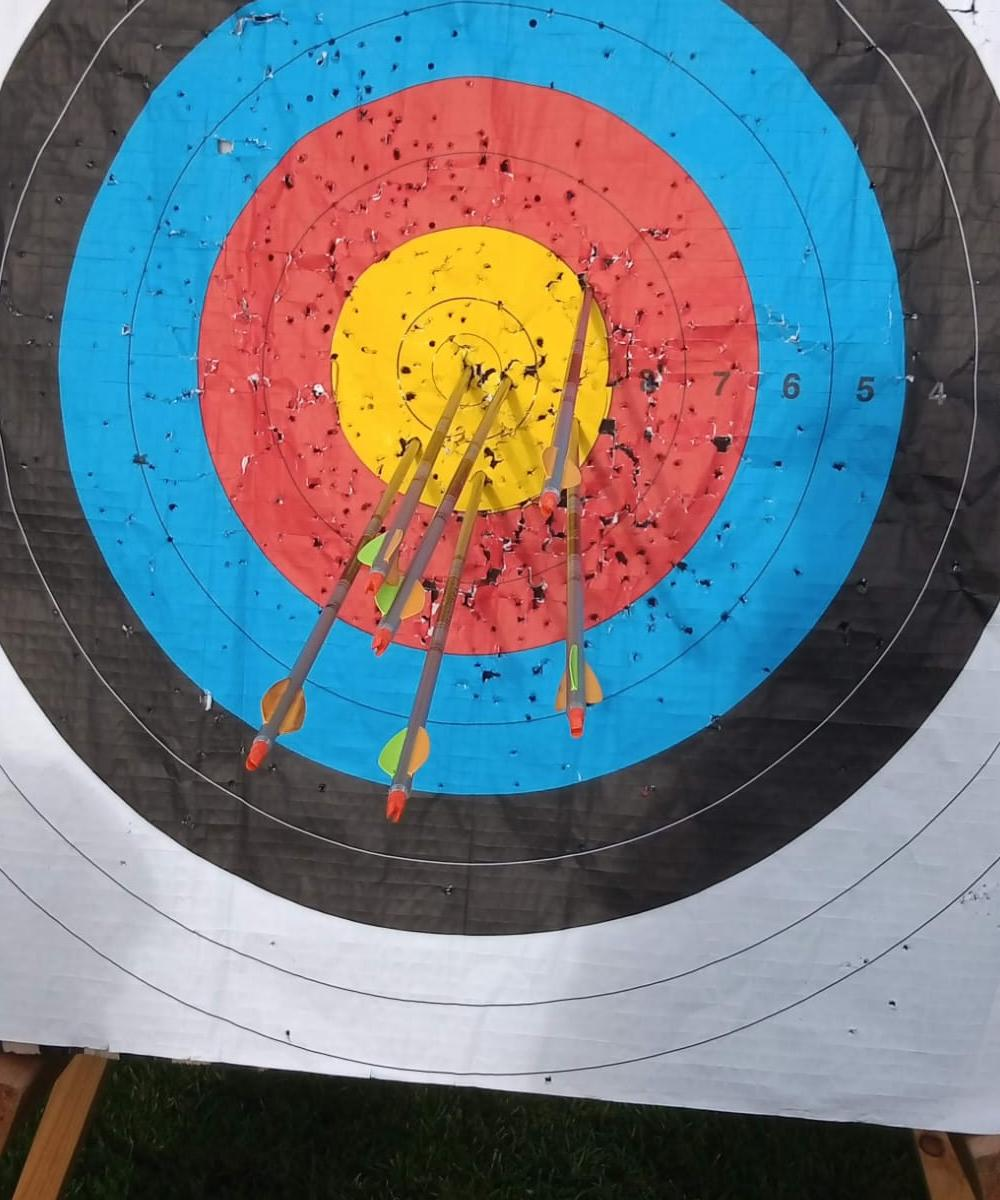10-Ring: (399, 299, 538, 444)
3-Ring: (0, 0, 1000, 939)
4-Ring: (0, 0, 978, 864)
5-Ring: (56, 0, 908, 795)
6-Ring: (126, 7, 832, 724)
7-Ring: (198, 78, 757, 655)
8-Ring: (201, 95, 747, 646)
9-Ring: (268, 170, 668, 569)
Arrow: (235, 423, 423, 782), (353, 361, 513, 666), (367, 462, 486, 826), (346, 356, 473, 604), (543, 416, 604, 740), (538, 287, 594, 519)
